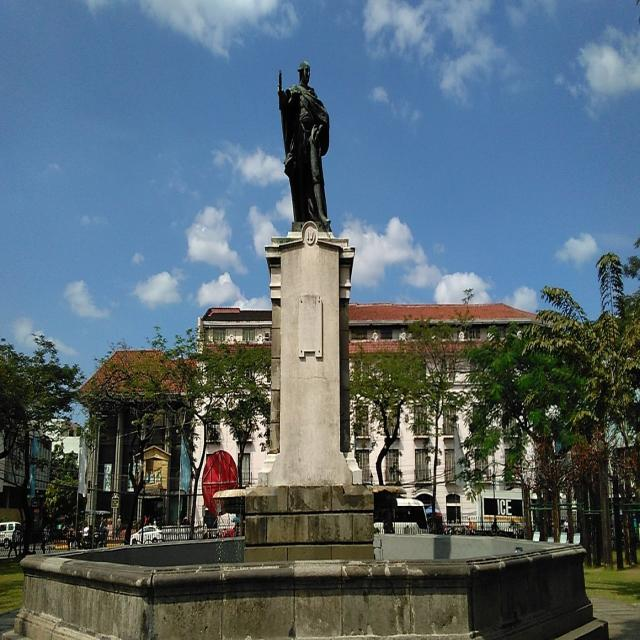King Charles IV Monument: (262, 46, 358, 565)
